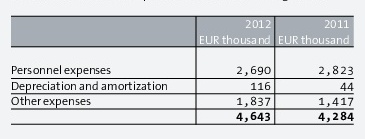table: (0, 0, 365, 139)
